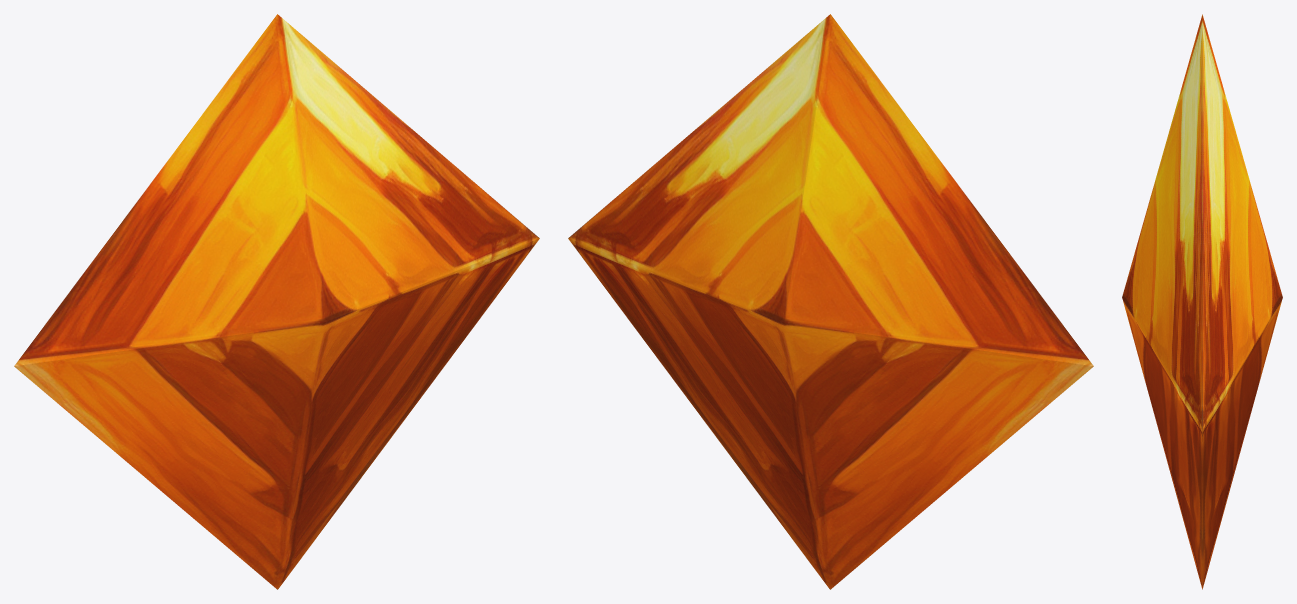
Rendered from Sibur.glb.
The picture shows the model from 3 angles, left to right: view 1: azimuth 30°, elevation 25°; view 2: azimuth 150°, elevation 25°; view 3: azimuth 270°, elevation 25°; orthographic projection.
Visible parts, largest first — view 1: Object_5; view 2: Object_5; view 3: Object_5.
Boxes of the visible parts, x1=… form: Object_5: x1=14, y1=14, x2=539, y2=589; Object_5: x1=568, y1=14, x2=1093, y2=589; Object_5: x1=1122, y1=14, x2=1282, y2=589.
Bounding box in the file's own units: 1.66 × 1.74 × 0.4394.
1 material, 1 textured.
